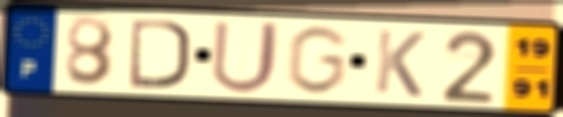2: (441, 27, 500, 107)
8: (62, 14, 115, 88)
D: (127, 16, 193, 91)
G: (283, 23, 352, 97)
K: (371, 27, 428, 100)
U: (208, 18, 284, 96)
